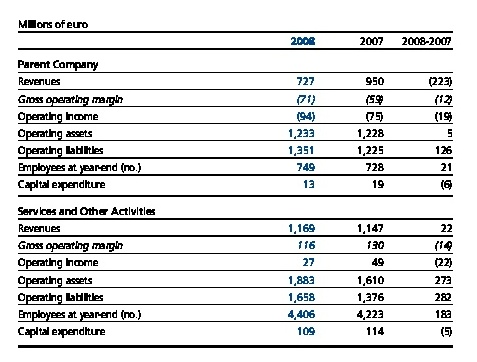table: (0, 0, 477, 362)
